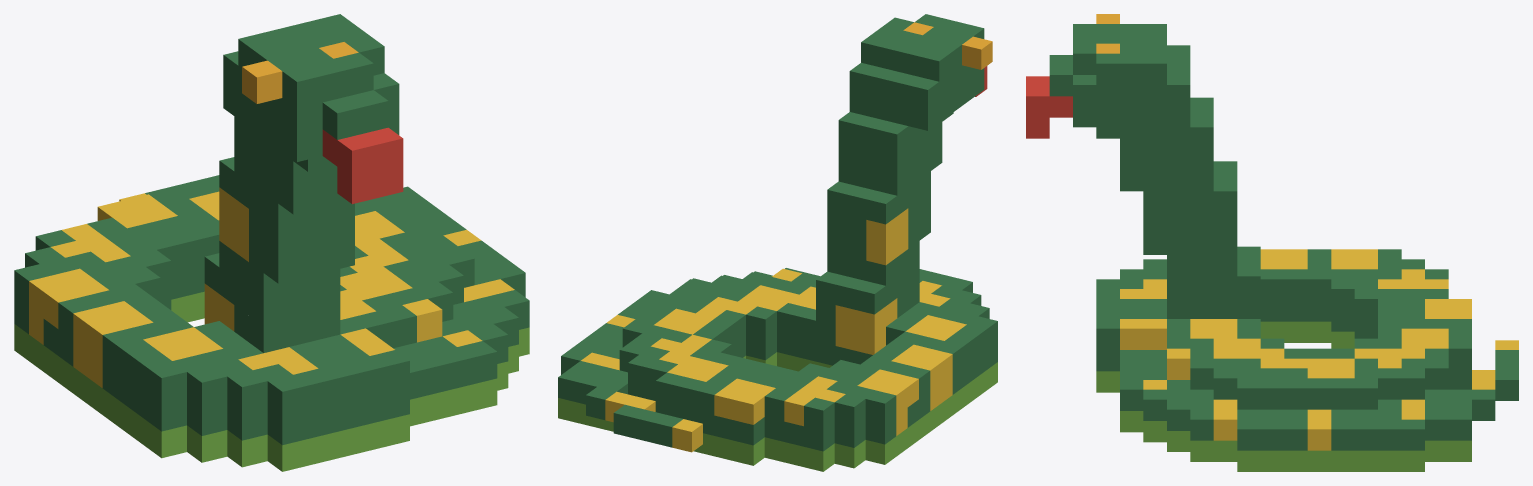
The model's file is snake.glb.
3 views of the same model, side by side, from view 1: azimuth 30°, elevation 25°; view 2: azimuth 150°, elevation 25°; view 3: azimuth 270°, elevation 25° (orthographic). The views are drawn at different scales.
Parts seen in each view (by area): view 1: snake__seg_2, snake__seg_3, snake__neck, snake__head, snake__body, snake__seg_1, snake__tail; view 2: snake__neck, snake__seg_2, snake__seg_1, snake__head, snake__body, snake__tail, snake__seg_3; view 3: snake__neck, snake__tail, snake__seg_3, snake__head, snake__seg_2, snake__seg_1, snake__body.
Boxes of the visible parts, <box> form: snake__seg_2: <box>14,230,277,462</box>; snake__seg_3: <box>227,268,529,471</box>; snake__neck: <box>204,116,365,352</box>; snake__head: <box>223,14,403,204</box>; snake__body: <box>340,204,474,348</box>; snake__seg_1: <box>62,177,400,322</box>; snake__tail: <box>119,175,525,297</box>; snake__neck: <box>796,91,942,371</box>; snake__seg_2: <box>799,294,997,471</box>; snake__seg_1: <box>619,318,837,466</box>; snake__head: <box>849,14,992,130</box>; snake__body: <box>634,268,818,370</box>; snake__tail: <box>558,290,702,452</box>; snake__seg_3: <box>692,268,981,305</box>; snake__neck: <box>1120,97,1260,328</box>; snake__tail: <box>1237,340,1518,471</box>; snake__seg_3: <box>1096,269,1260,461</box>; snake__head: <box>1026,14,1190,138</box>; snake__seg_2: <box>1143,249,1448,348</box>; snake__seg_1: <box>1307,279,1471,409</box>; snake__body: <box>1167,328,1354,409</box>.
Bounding box in the file's own units: 1.6 × 1.5 × 2.1.
1 material, 1 textured.
